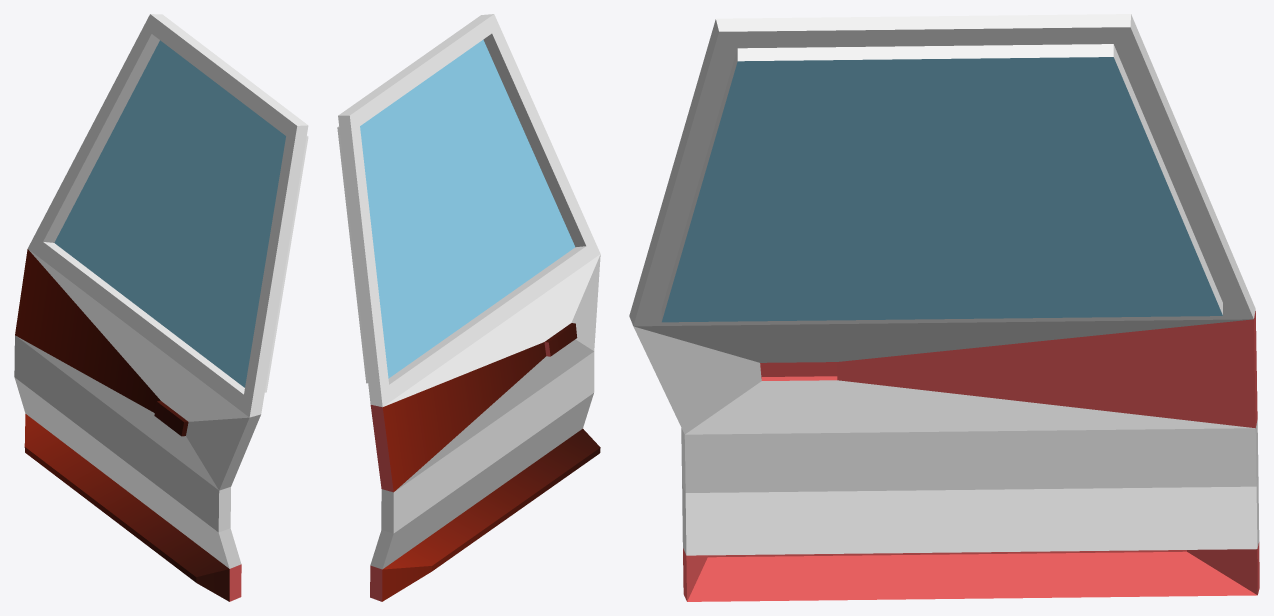
File: porta esq.fbx
3 views of the same model, side by side, from view 1: azimuth 30°, elevation 25°; view 2: azimuth 150°, elevation 25°; view 3: azimuth 270°, elevation 25° (orthographic). The views are drawn at different scales.
Visible parts, largest first — view 1: porta; view 2: porta; view 3: porta.
Part boxes in pixels (<box>): porta: <box>14,14,308,601</box>; porta: <box>337,14,600,601</box>; porta: <box>629,14,1259,601</box>.
Bounding box in the file's own units: 28.06 × 97.12 × 87.4.
